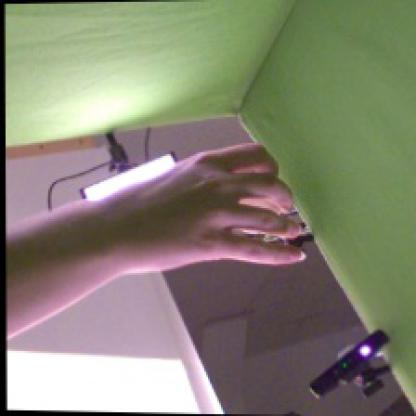Hand: (102, 143, 306, 266)
